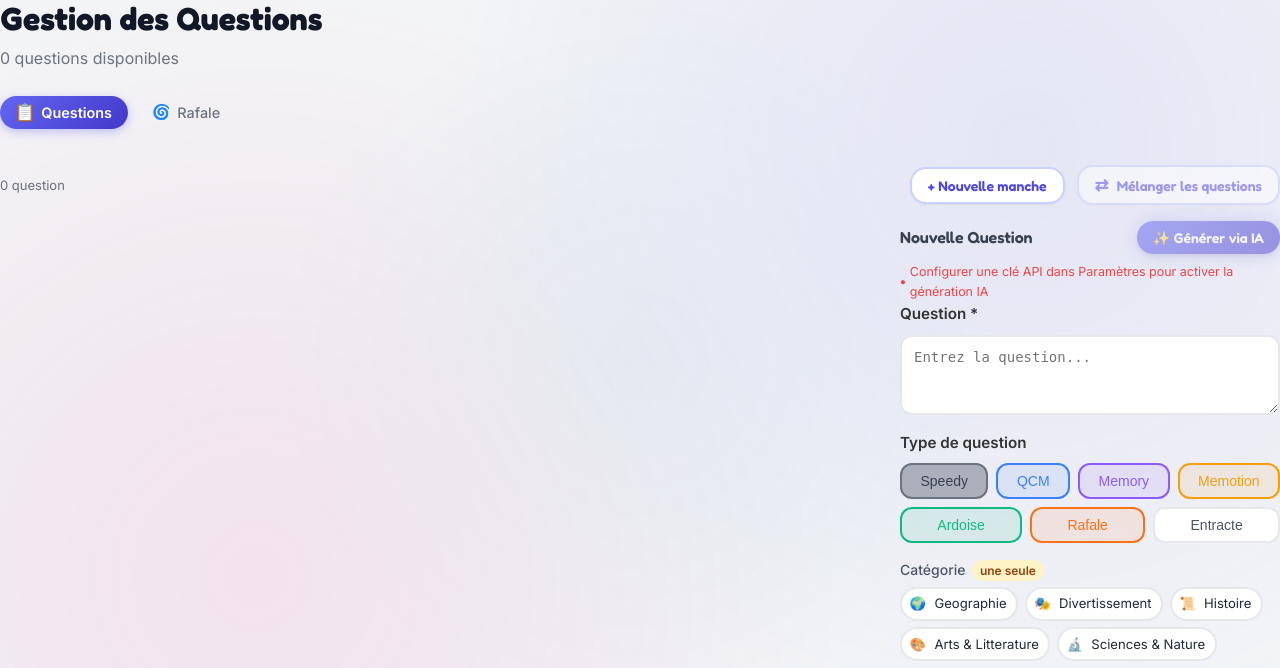
Test case: Éditeur — le sous-éditeur QCM d'une carte MEMOTION n'a plus d'indices (#279) › carte passée en QCM : les 4 réponses et la désignation de la bonne réponse restent proposées
Click the button "Memotion" at (1229, 481), box [1178,463,1279,499]
(page scrolled)
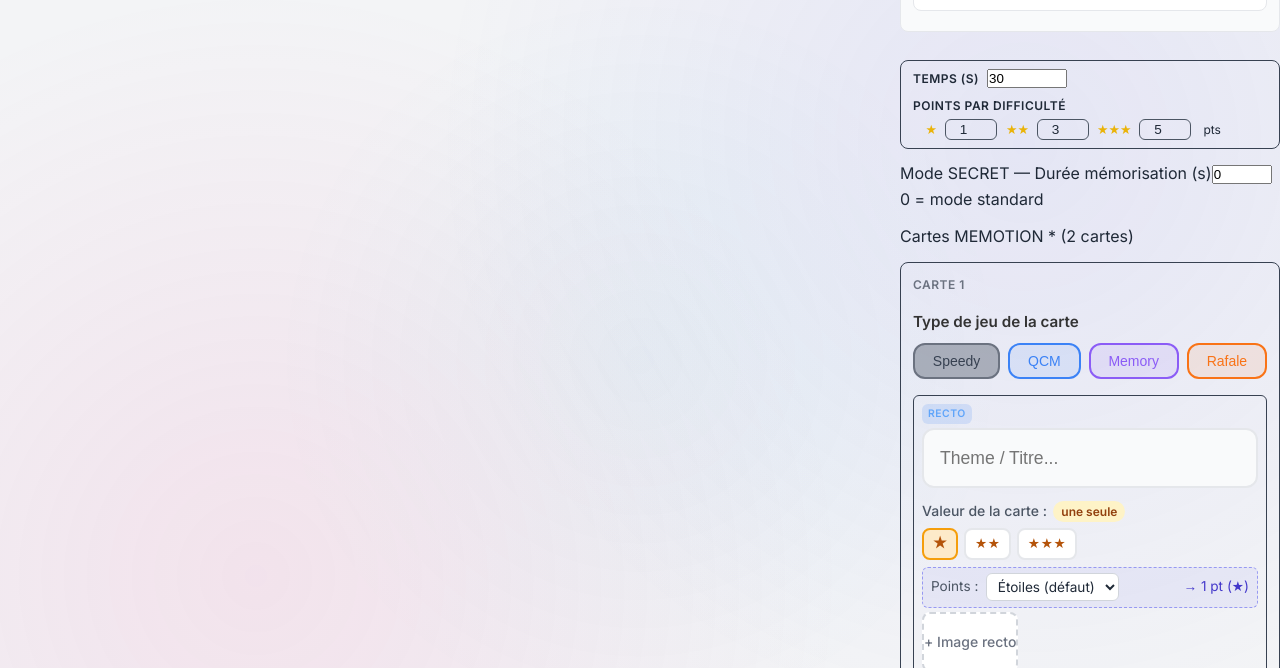
Click the button "QCM" at (1044, 361), box [1008,343,1081,379]
(page scrolled)
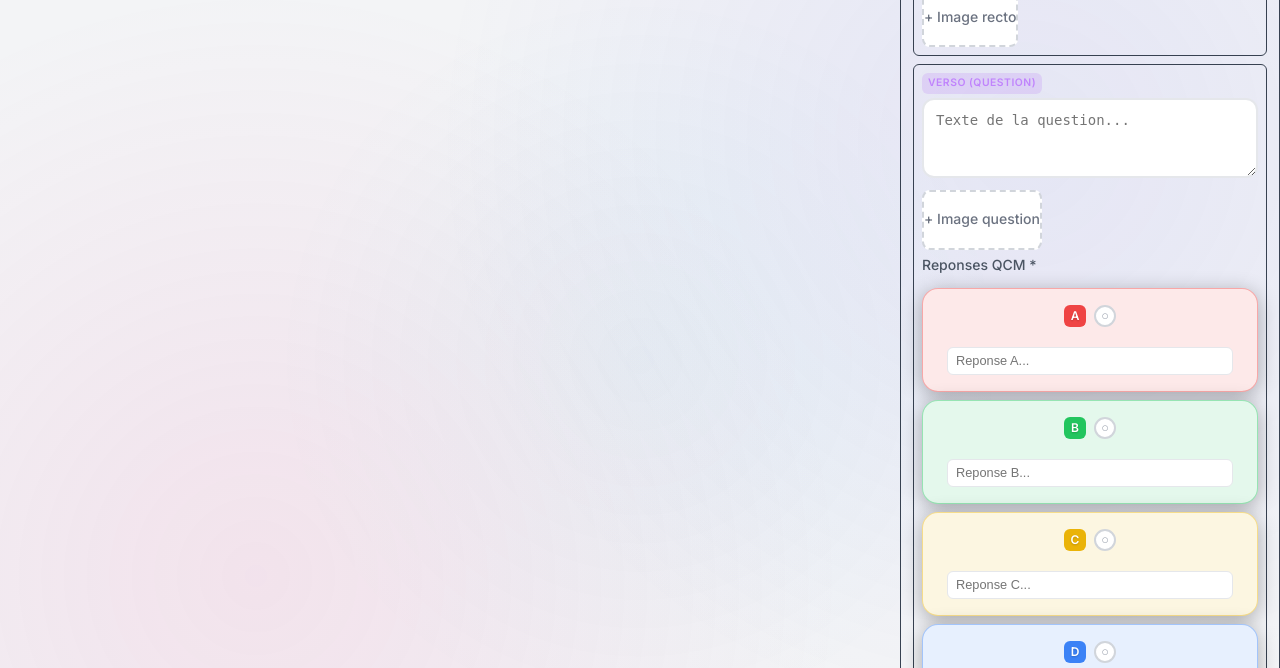
Check: the text "Reponses QCM *" is shown, box [922,256,1036,272]
Check: the number of buttons titled "Marquer comme bonne reponse" is 4, box [1094,305,1116,327]; [1094,417,1116,439]; [1094,529,1116,551]; [1094,641,1116,663]
Check: the field with placeholder "Reponse A..." is shown, box [947,347,1233,375]
